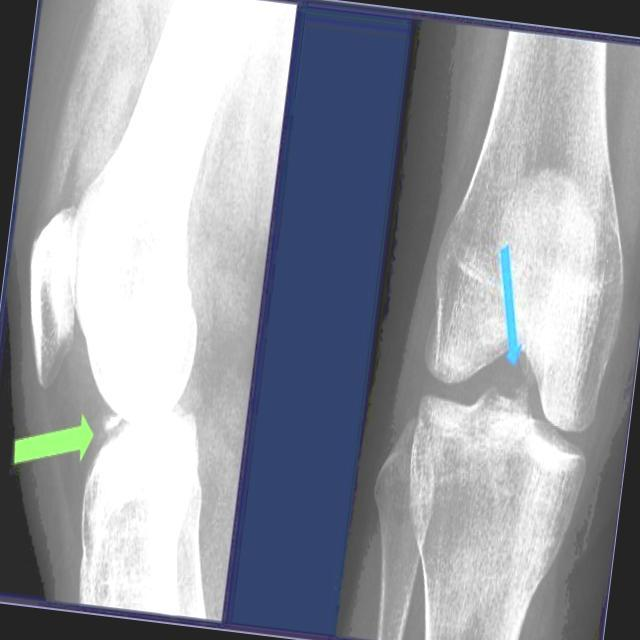Avlusion Fracture: (487, 357, 548, 413), (89, 405, 130, 447)
